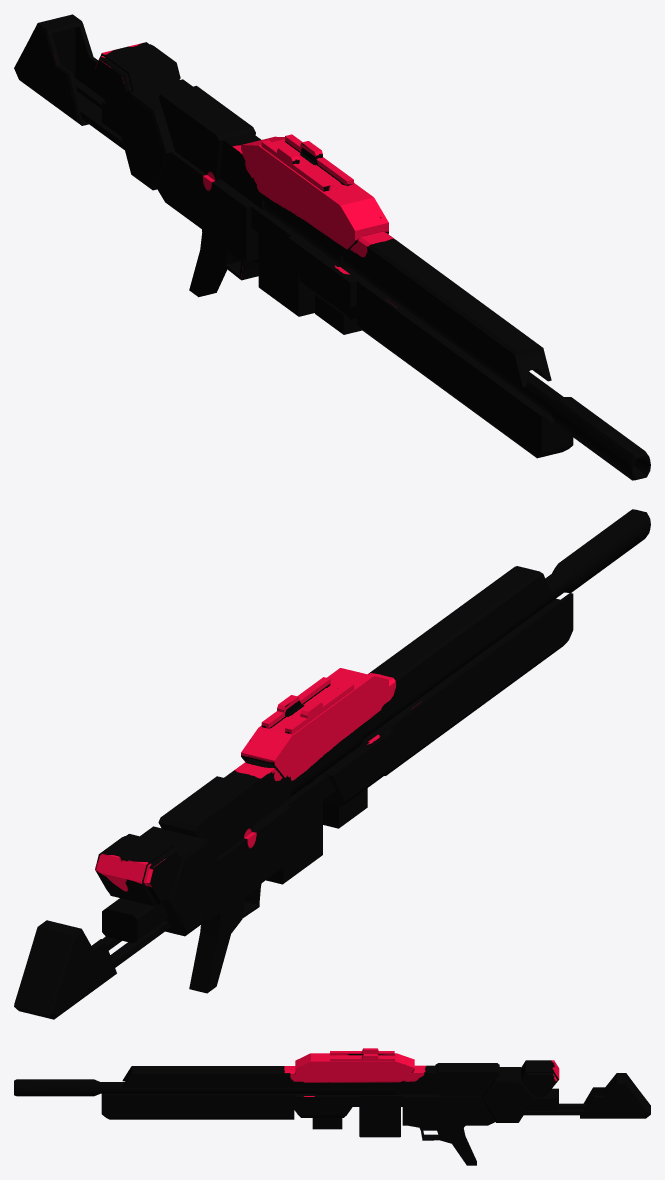
File: GUN.fbx
3 renders of one model, top to bottom at view 1: azimuth 30°, elevation 25°; view 2: azimuth 150°, elevation 25°; view 3: azimuth 270°, elevation 25°, orthographic. The views are drawn at different scales.
Visible parts, largest first — view 1: Plane; view 2: Plane; view 3: Plane.
Part boxes in pixels (bbox=[...]): Plane: bbox=[14, 14, 650, 480]; Plane: bbox=[14, 509, 650, 1019]; Plane: bbox=[14, 1048, 650, 1165].
Size of the model in its own units: 75.75 by 273 by 1416.
Materials: 1 (1 with a texture image).
